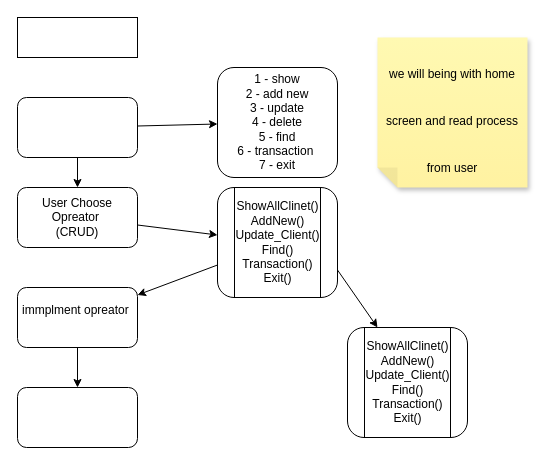
Some shapes in this 551 by 465 pixel diagram are drawn without their labels. The centre of each missing label's shape, as x and y in pixels:
"Bank Manger" belongs at pixel 77 37.
"go back to home screen" belongs at pixel 77 417.
"Show home Screen" belongs at pixel 77 127.
